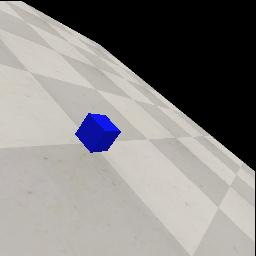box: (75, 113, 121, 153)
